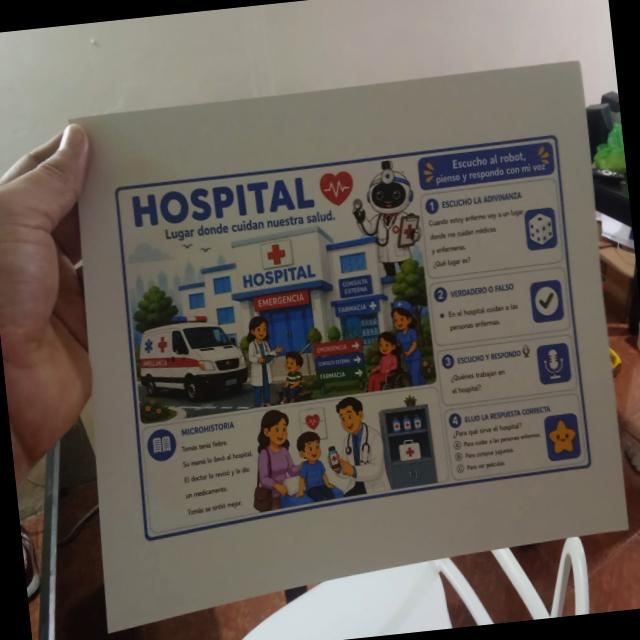hospital: (104, 128, 599, 546)
